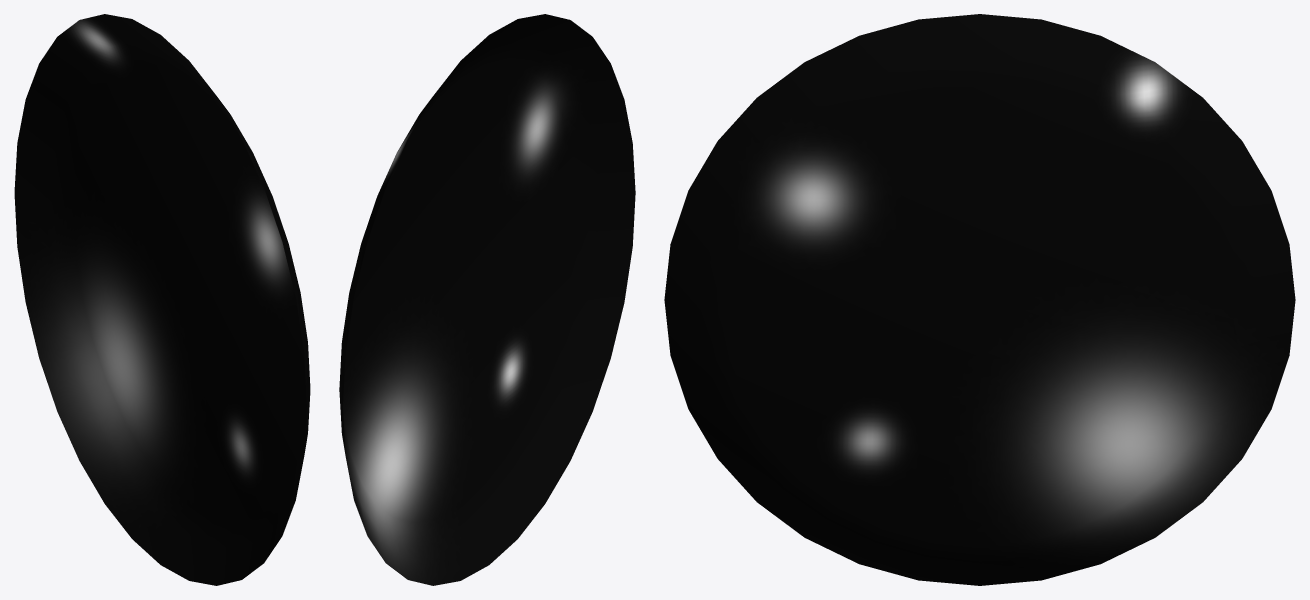
File: KeyGateA.obj
3 views of the same model, side by side, from view 1: azimuth 30°, elevation 25°; view 2: azimuth 150°, elevation 25°; view 3: azimuth 270°, elevation 25° (orthographic). The views are drawn at different scales.
Visible parts, largest first — view 1: KeyGateA_Collision_KeyGateA.001; view 2: KeyGateA_Collision_KeyGateA.001; view 3: KeyGateA_Collision_KeyGateA.001.
Boxes of the visible parts, x1,y1,x2,y2 form: KeyGateA_Collision_KeyGateA.001: (14,14,310,585); KeyGateA_Collision_KeyGateA.001: (339,14,635,585); KeyGateA_Collision_KeyGateA.001: (664,14,1295,585).
Size of the model in its own units: 146 by 2487 by 2487.
1 material, 1 textured.
